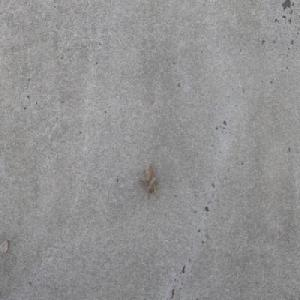Rock: (137, 161, 157, 195)
